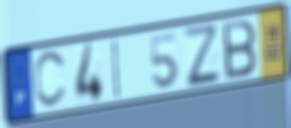4: (73, 39, 106, 107)
5: (148, 31, 180, 91)
B: (220, 17, 259, 82)
C: (33, 48, 69, 111)
I: (111, 37, 122, 102)
Z: (181, 22, 222, 90)
